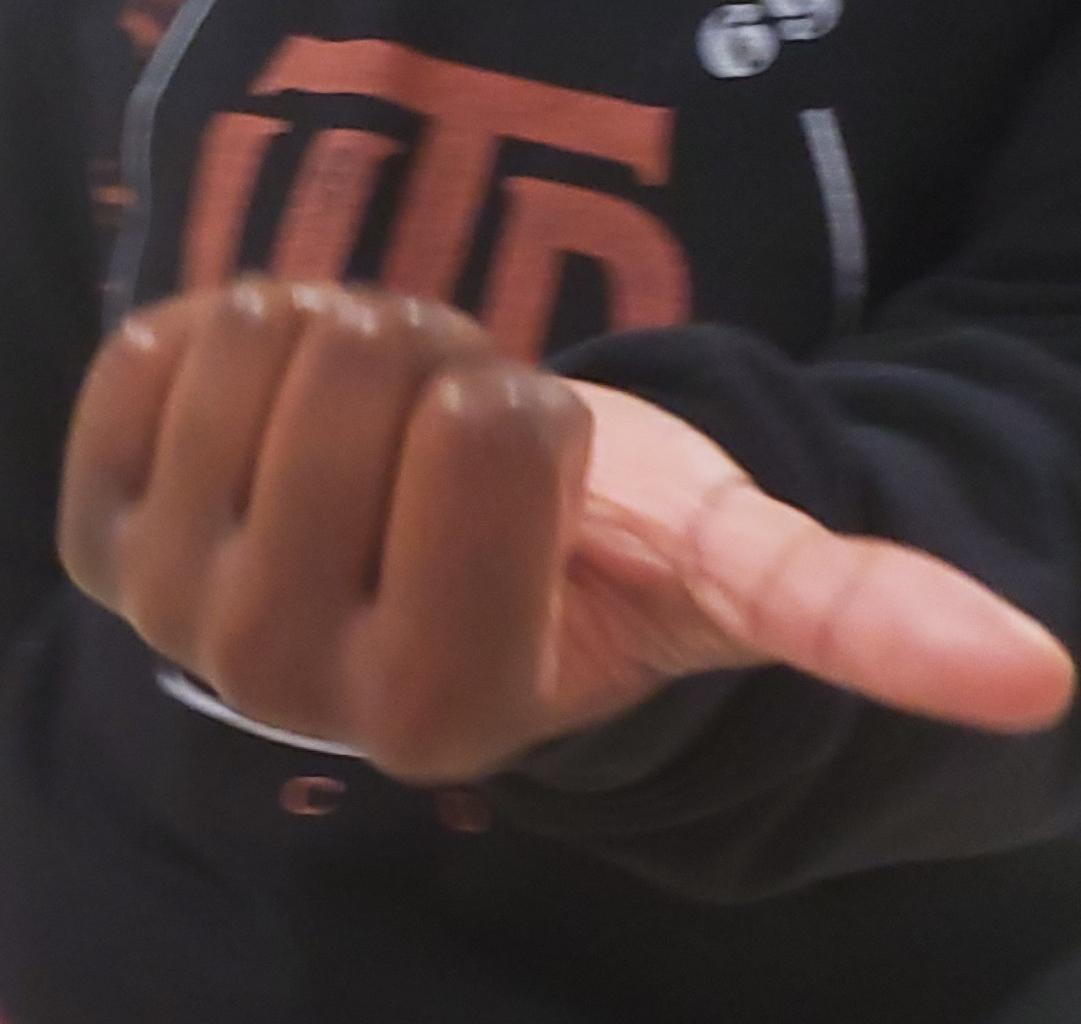left: (1, 0, 1081, 1024)
